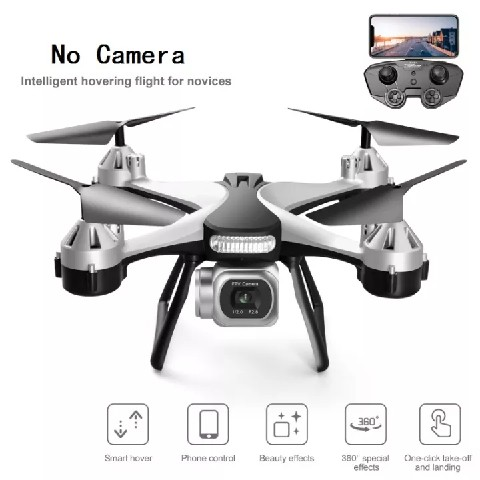maybay_khongnguoilai: (13, 104, 457, 370)
